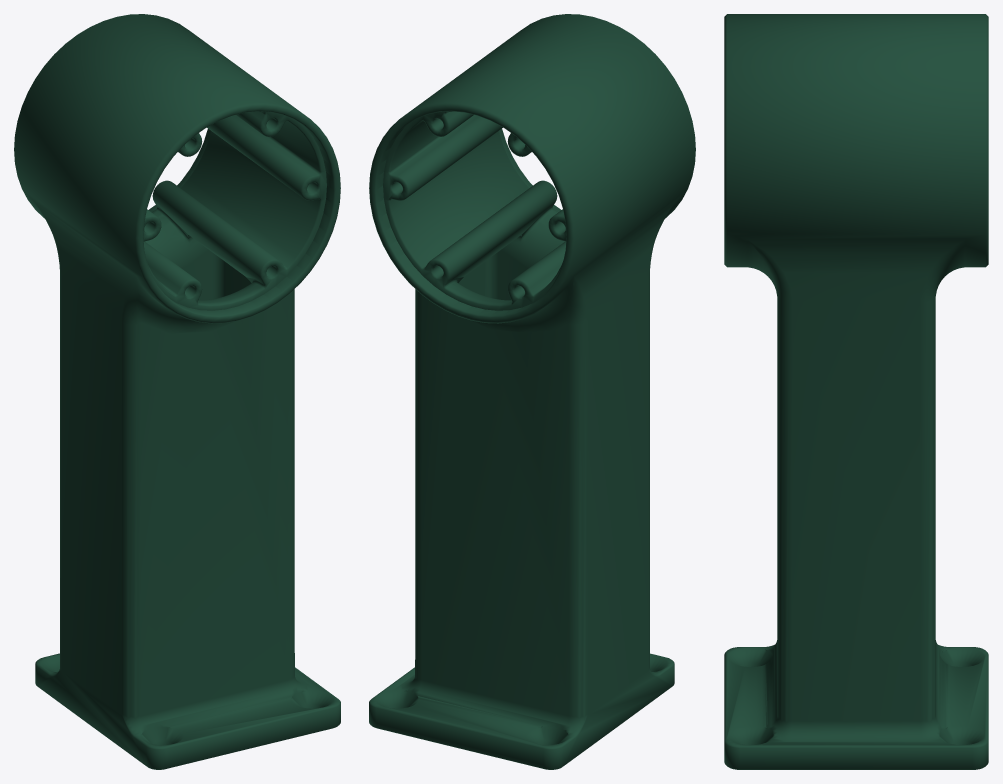
File: head_link_neck.dae
The picture shows the model from 3 angles, left to right: view 1: azimuth 30°, elevation 25°; view 2: azimuth 150°, elevation 25°; view 3: azimuth 270°, elevation 25°; orthographic projection. The views are drawn at different scales.
Parts seen in each view (by area): view 1: node; view 2: node; view 3: node.
Part boxes in pixels (box(x1,y1,x2,y2)): node: box(14, 14, 340, 769); node: box(369, 14, 695, 769); node: box(724, 14, 988, 769).
Size of the model in its own units: 0.049 by 0.05 by 0.144.
